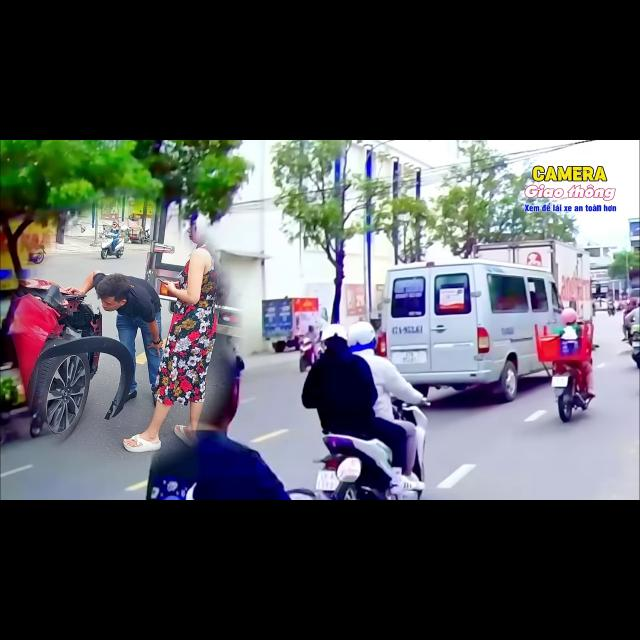car: (378, 258, 562, 401), (0, 279, 134, 438)
motorcycle: (3, 279, 133, 438), (316, 434, 422, 499), (535, 323, 593, 422), (299, 337, 317, 372), (101, 233, 124, 259), (630, 324, 639, 368), (30, 243, 45, 263), (143, 230, 151, 242), (608, 303, 615, 315)
truck: (473, 240, 593, 320), (145, 204, 194, 313), (262, 298, 321, 352)
